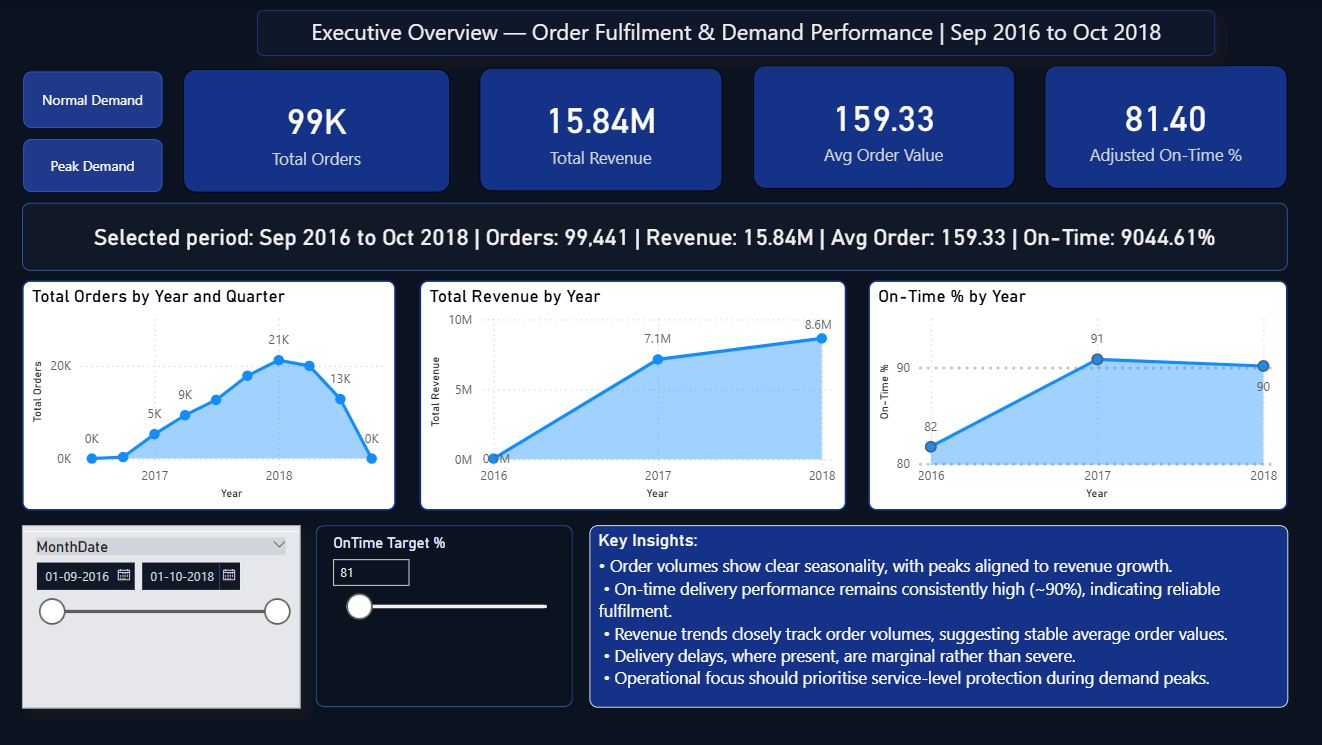

This screenshot's page, from the dashboard's own definition file:
{"tool":"powerbi","page":{"name":"Exec Dashboard","canvas":[1280,720],"ordinal":2},"visuals":[{"type":"card","fields":{"Values":["monthly_demand.Total Orders"]},"box":[179.8,67.2,258,119.4],"z":0},{"type":"card","fields":{"Values":["monthly_demand.Total Revenue"]},"box":[465.2,65.9,234.6,119.4],"z":1000},{"type":"card","fields":{"Values":["monthly_demand.Avg Order Value"]},"box":[730,64.5,252.5,119.4],"z":2000},{"type":"card","fields":{"Values":["OnTime Target %.Adjusted On-Time %"]},"box":[1011.3,64.5,234.6,119.4],"z":3000},{"type":"areaChart","fields":{"Y":["monthly_demand.Total Orders"],"Category":["monthly_demand.MonthDate.Variation.Date Hierarchy.Year","monthly_demand.MonthDate.Variation.Date Hierarchy.Quarter","monthly_demand.MonthDate.Variation.Date Hierarchy.Month","monthly_demand.MonthDate.Variation.Date Hierarchy.Day"]},"box":[24.7,271.7,360.9,222.3],"z":4000},{"type":"areaChart","fields":{"Category":["monthly_demand.MonthDate.Variation.Date Hierarchy.Year","monthly_demand.MonthDate.Variation.Date Hierarchy.Quarter","monthly_demand.MonthDate.Variation.Date Hierarchy.Month","monthly_demand.MonthDate.Variation.Date Hierarchy.Day"],"Y":["monthly_demand.Total Revenue"]},"box":[407.5,271.7,411.7,222.3],"z":5000},{"type":"areaChart","fields":{"Category":["monthly_demand.MonthDate.Variation.Date Hierarchy.Year","monthly_demand.MonthDate.Variation.Date Hierarchy.Quarter","monthly_demand.MonthDate.Variation.Date Hierarchy.Month","monthly_demand.MonthDate.Variation.Date Hierarchy.Day"],"Y":["monthly_demand.On-Time %"]},"box":[841.2,271.7,404.8,222.3],"z":6000},{"type":"slicer","fields":{"Values":["monthly_demand.MonthDate"]},"box":[24.2,507.4,268.4,176.6],"z":7000},{"type":"textbox","title":"Key Insights:","box":[572.2,507.7,674,176.3],"z":8000},{"type":"card","fields":{"Values":["monthly_demand.Dashboard Title"]},"box":[251.1,11,924.9,43.9],"z":9000},{"type":"card","fields":{"Values":["monthly_demand.Story Summary"]},"box":[24.7,196.2,1221.3,65.9],"z":10000},{"type":"actionButton","title":"Normal Demand","box":[24.8,69.5,134.1,54.6],"z":11000},{"type":"actionButton","title":"Peak Demand","box":[24.8,135.3,134.1,50.9],"z":12000},{"type":"slicer","fields":{"Values":["OnTime Target %.OnTime Target %"]},"box":[308.2,507.4,247.6,174.9],"z":13000}]}

Visuals, with their boxes in screenshot pixels (x1, y1, x2, y2), scaled from the page's 1280x720 canvas onto the 1322x745 screenshot:
card - monthly_demand.Total Orders: box=[186, 70, 452, 193]
card - monthly_demand.Total Revenue: box=[480, 68, 723, 192]
card - monthly_demand.Avg Order Value: box=[754, 67, 1015, 190]
card - OnTime Target %.Adjusted On-Time %: box=[1044, 67, 1287, 190]
areaChart - monthly_demand.Total Orders x monthly_demand.MonthDate.Variation.Date Hierarchy.Year: box=[26, 281, 398, 511]
areaChart - monthly_demand.MonthDate.Variation.Date Hierarchy.Year x monthly_demand.MonthDate.Variation.Date Hierarchy.Quarter: box=[421, 281, 846, 511]
areaChart - monthly_demand.MonthDate.Variation.Date Hierarchy.Year x monthly_demand.MonthDate.Variation.Date Hierarchy.Quarter: box=[869, 281, 1287, 511]
slicer - monthly_demand.MonthDate: box=[25, 525, 302, 708]
"Key Insights:" textbox: box=[591, 525, 1287, 708]
card - monthly_demand.Dashboard Title: box=[259, 11, 1215, 57]
card - monthly_demand.Story Summary: box=[26, 203, 1287, 271]
"Normal Demand" actionButton: box=[26, 72, 164, 128]
"Peak Demand" actionButton: box=[26, 140, 164, 193]
slicer - OnTime Target %.OnTime Target %: box=[318, 525, 574, 706]
